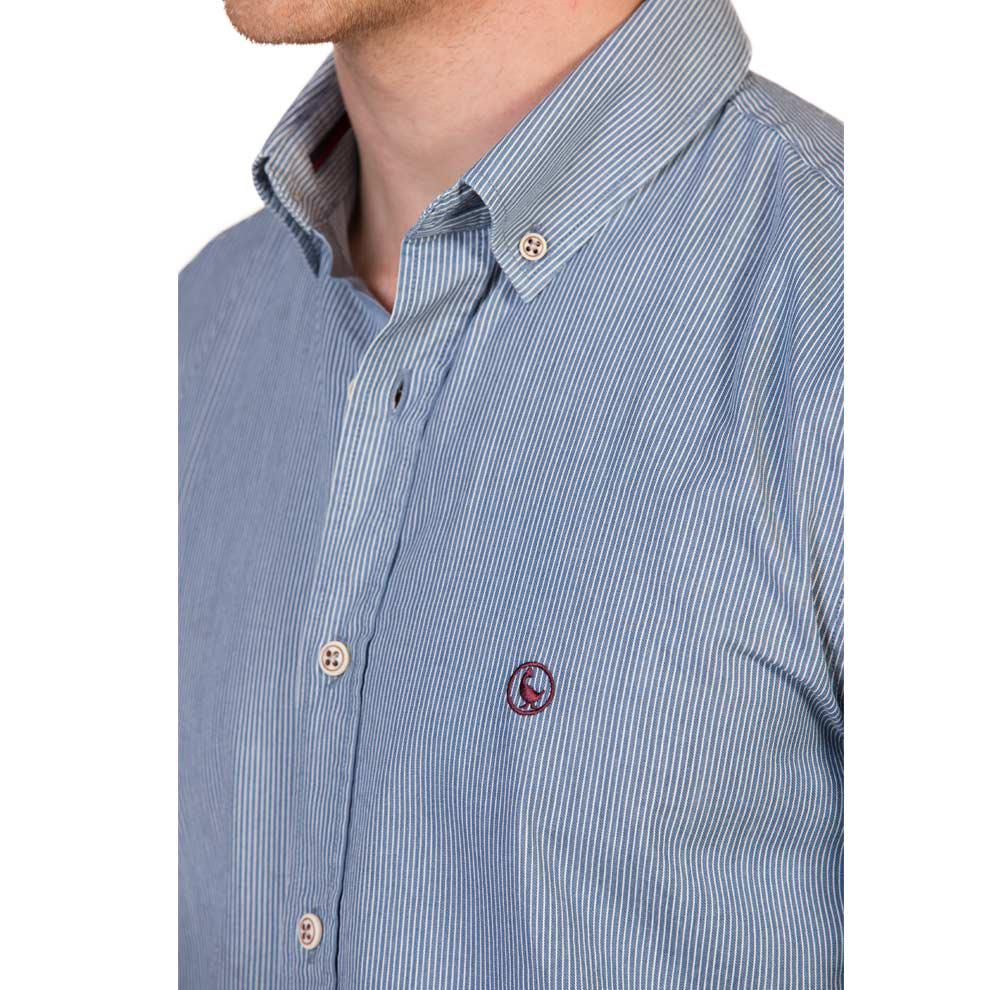teeshirt: (141, 35, 859, 989)
